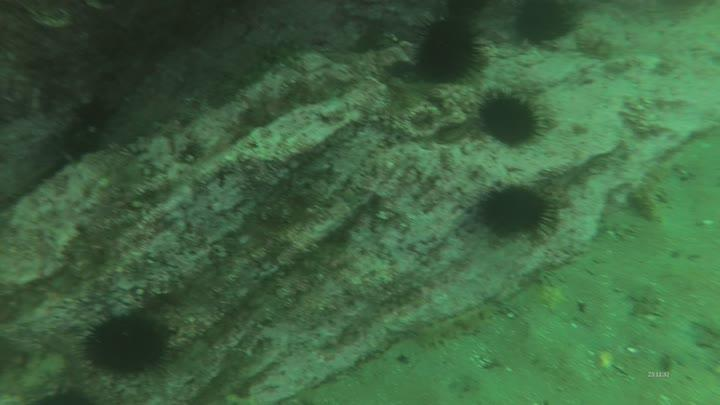urchin: (478, 177, 558, 249), (83, 307, 167, 375), (414, 15, 489, 84), (479, 90, 544, 149), (513, 2, 574, 45)
